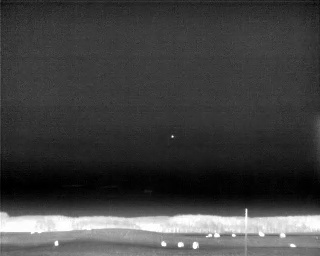BIRD: (169, 133, 176, 141)
